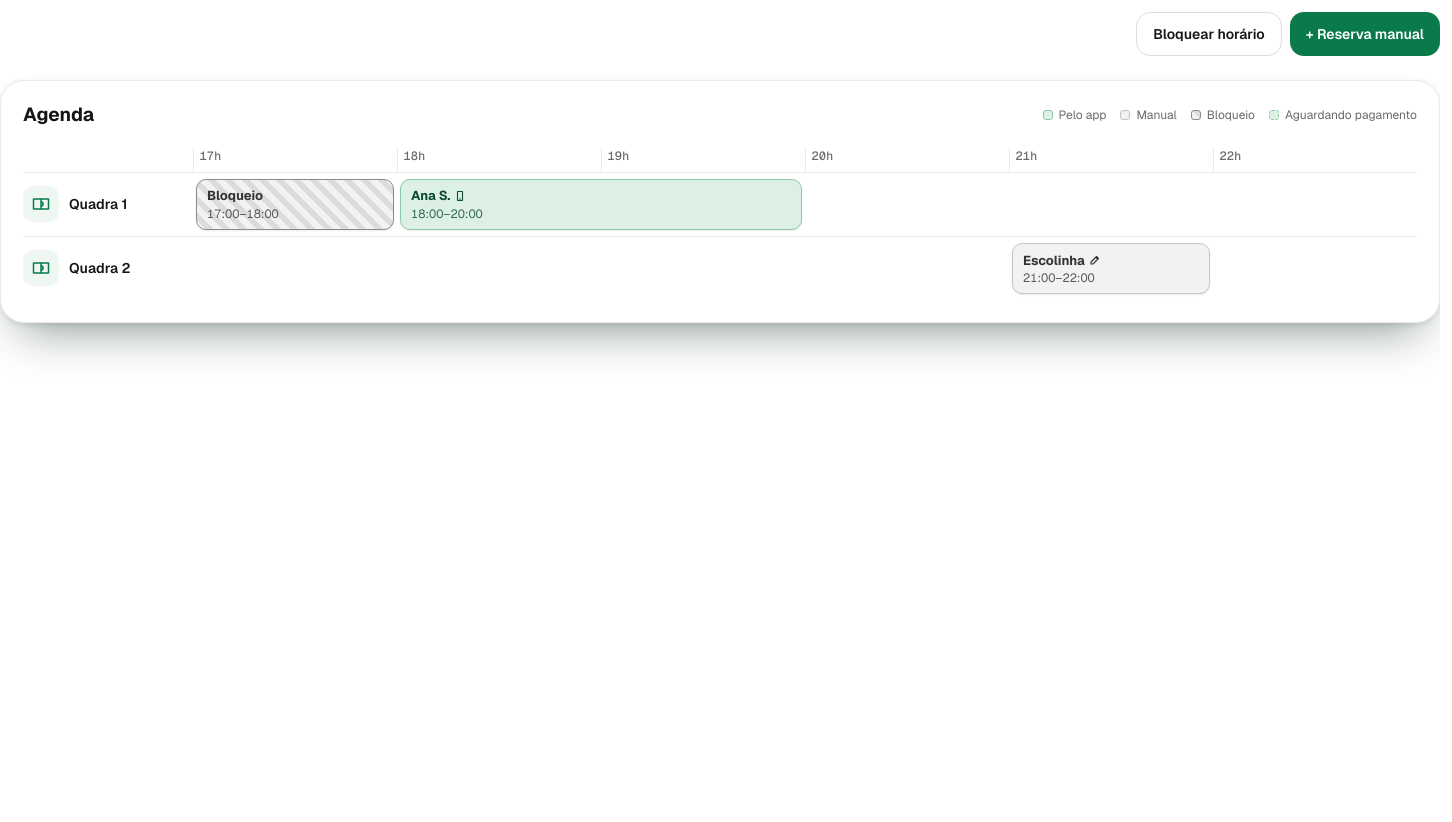
Scenario: AgendaView (wide) › warns that a paid app booking is refunded by support, not by the owner
The width and height of the screenshot is (1452, 822).
Click the button named "Quadra 1, 18:00–20:00, reserva de Ana S., pelo app, confirmada": (431, 196) [400, 178, 802, 230]
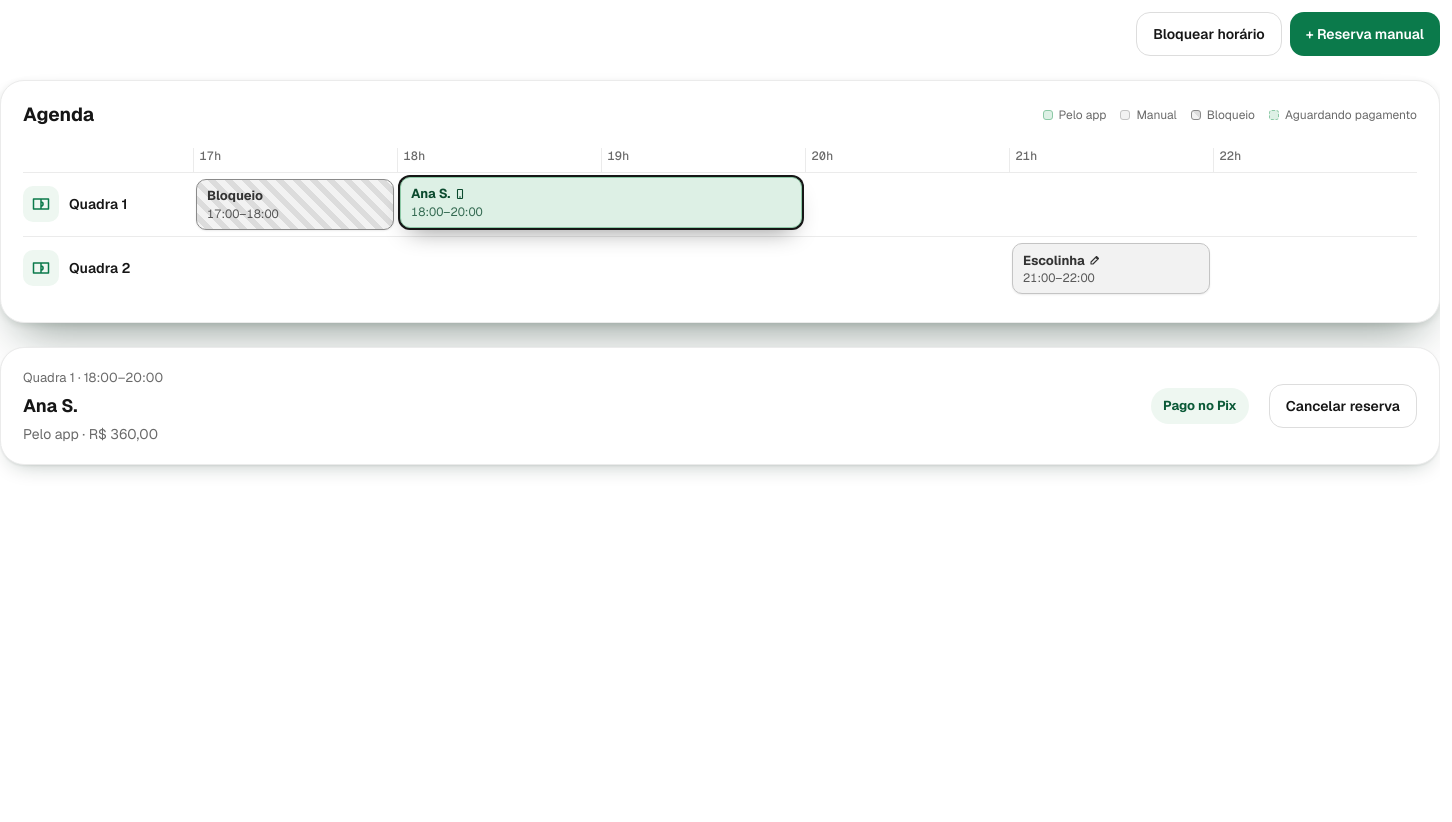
Check: the text "O jogador já pagou" is not shown
Click the button "Cancelar reserva": (1343, 406) [1269, 384, 1417, 428]
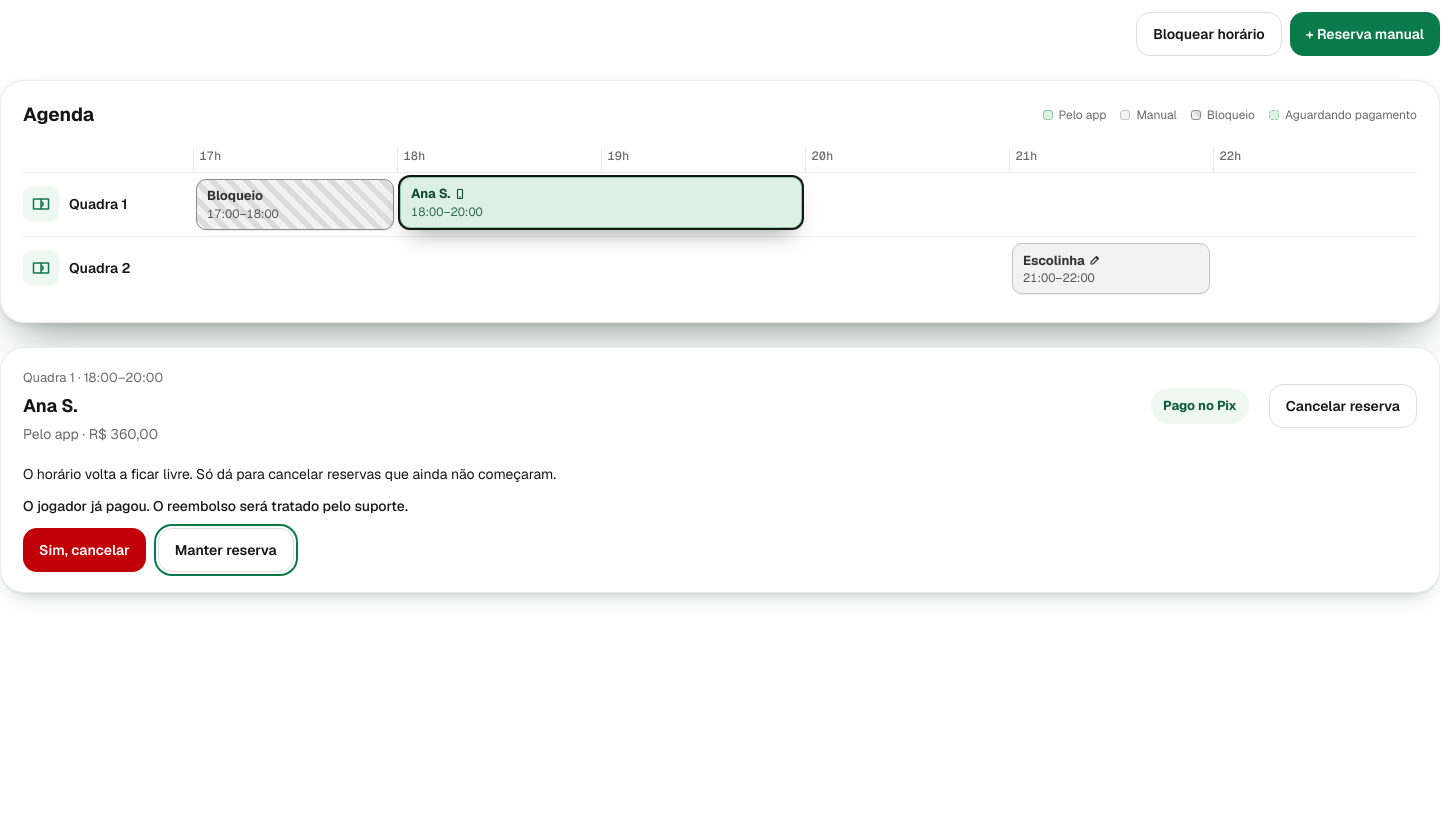
Check: the text "O jogador já pagou. O reembolso será tratado pelo suporte." is shown, box [23, 496, 408, 514]
